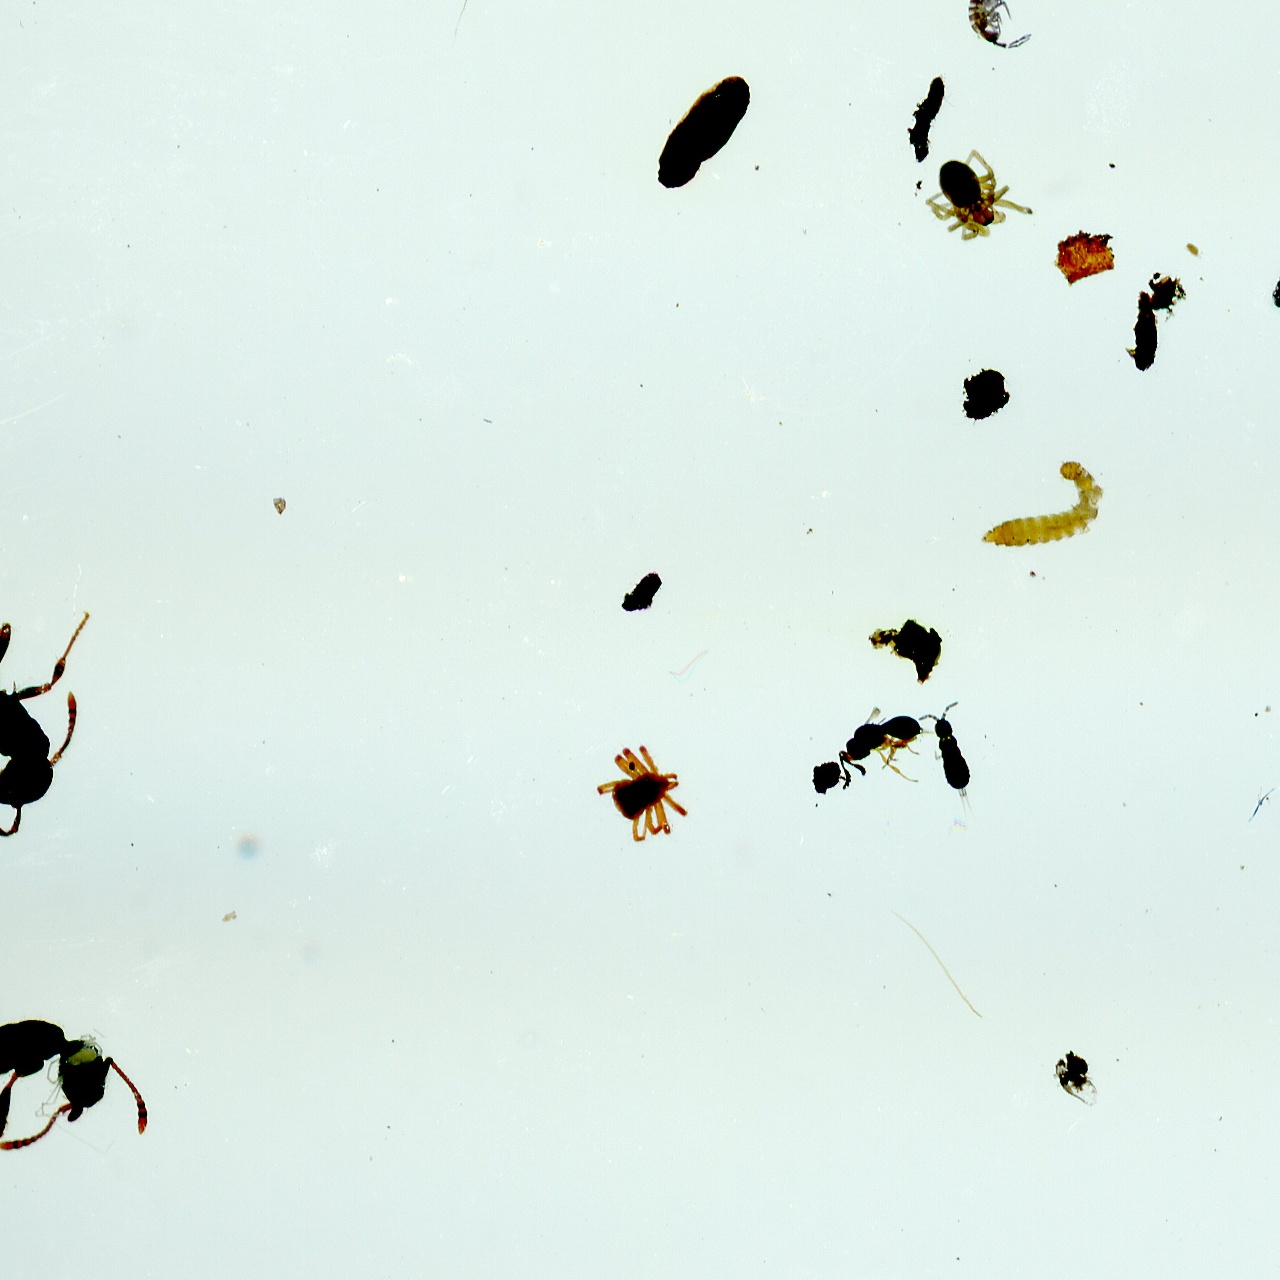arthropod: (0, 943, 156, 1171), (0, 607, 94, 843), (813, 685, 954, 816), (910, 136, 1035, 260), (584, 730, 706, 855), (914, 697, 1000, 835), (978, 459, 1105, 551), (34, 1032, 119, 1157), (966, 0, 1034, 51), (1260, 231, 1280, 321)
